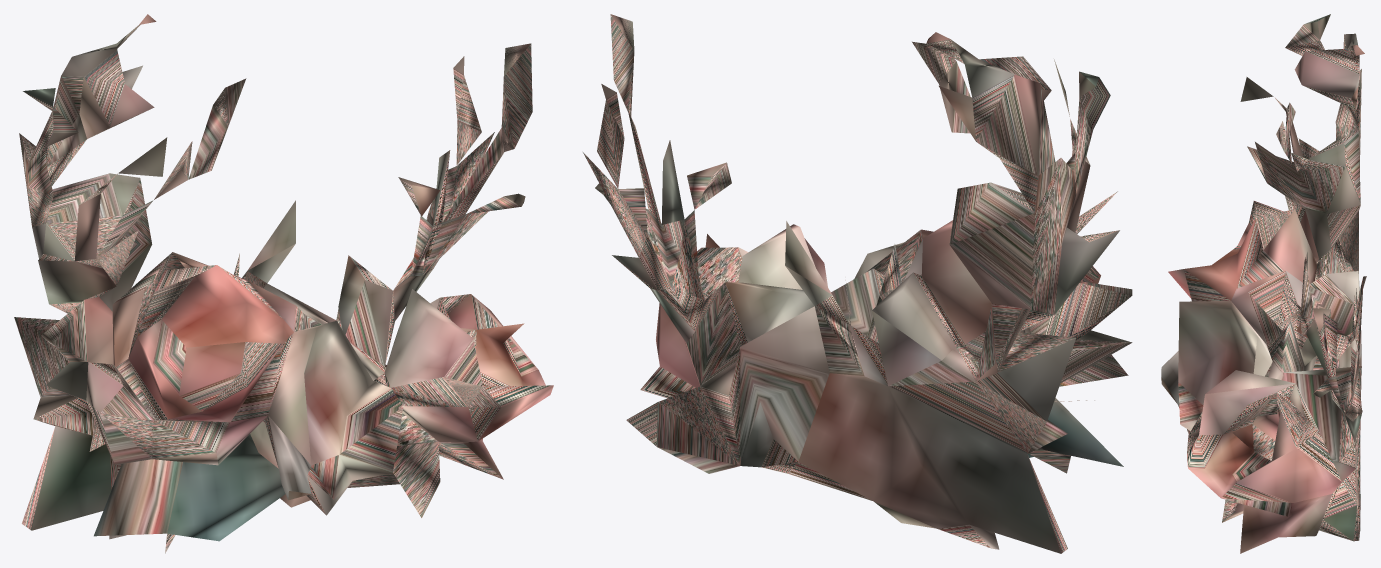
The picture shows the model from 3 angles, left to right: view 1: azimuth 30°, elevation 25°; view 2: azimuth 150°, elevation 25°; view 3: azimuth 270°, elevation 25°; orthographic projection. The views are drawn at different scales.
Parts seen in each view (by area): view 1: Rose-Spray-9-14; view 2: Rose-Spray-9-14; view 3: Rose-Spray-9-14.
Part boxes in pixels (x1,y1,x2,y2): Rose-Spray-9-14: [14, 14, 553, 553]; Rose-Spray-9-14: [583, 14, 1132, 553]; Rose-Spray-9-14: [1161, 14, 1366, 553].
Size of the model in its own units: 0.2316 by 0.2218 by 0.1001.
Materials: 1 (1 with a texture image).
